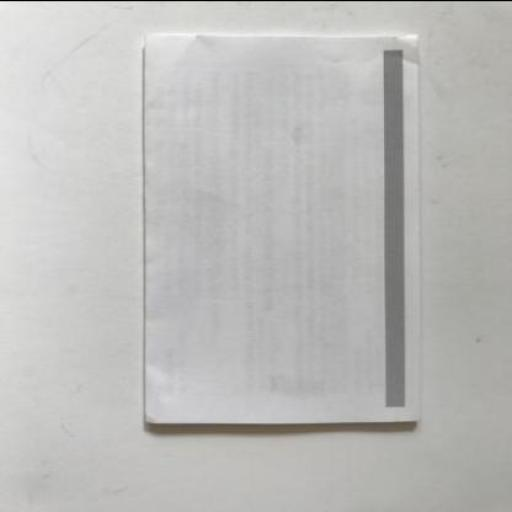paper: (143, 29, 418, 421)
